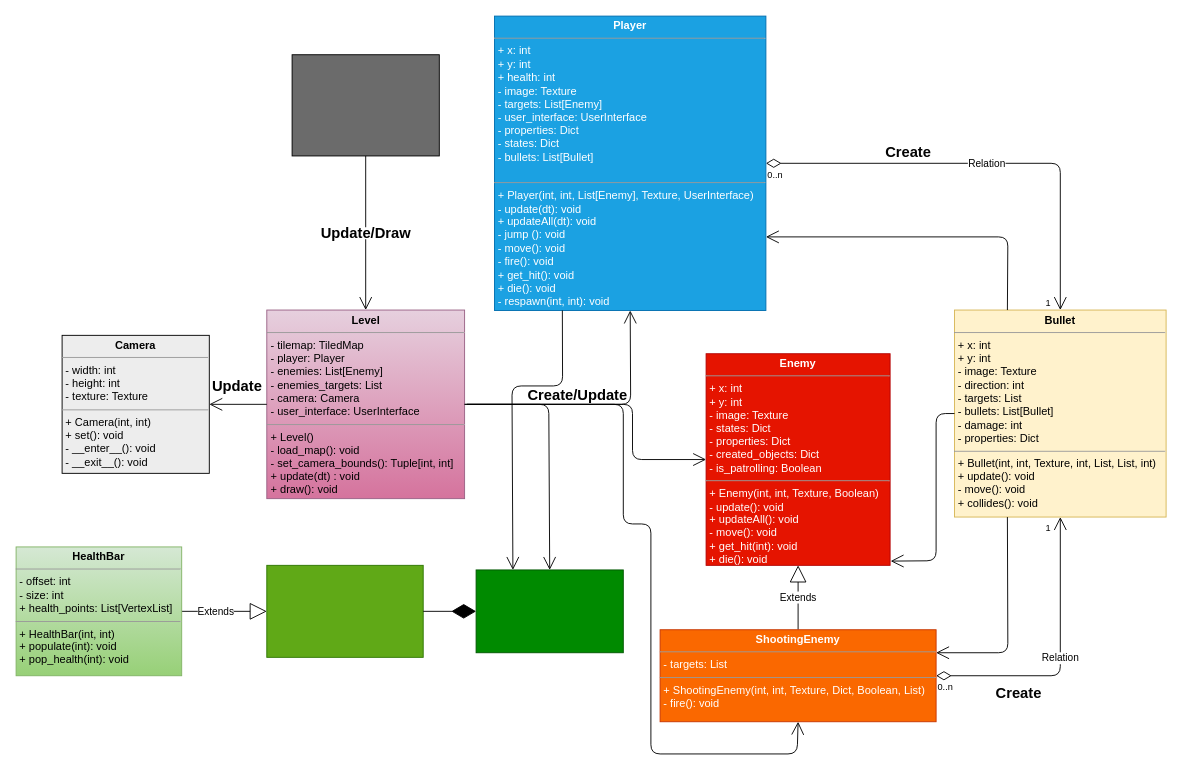
Image size: 1182x783. Some labels were removed from this diagram. Each missing label, with the centre of its shape:
"Game - level: Level + Game() + update(): void + on_draw(): void" belongs at (365,105).
"InterfaceComponent - x: int - y: int + InterfaceComponent(int, int)" belongs at (344,610).
"UserInterface + health_bar: HealthBar + UserInterface()" belongs at (549,611).
